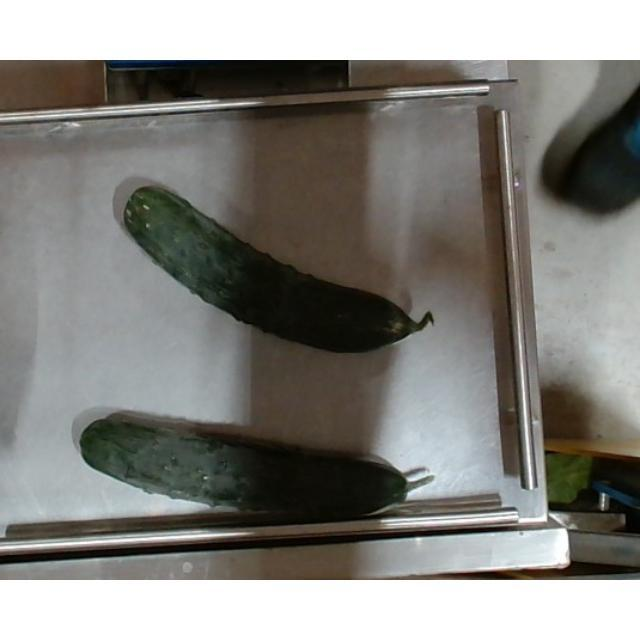cucumber: (118, 184, 428, 348), (73, 413, 441, 521)
